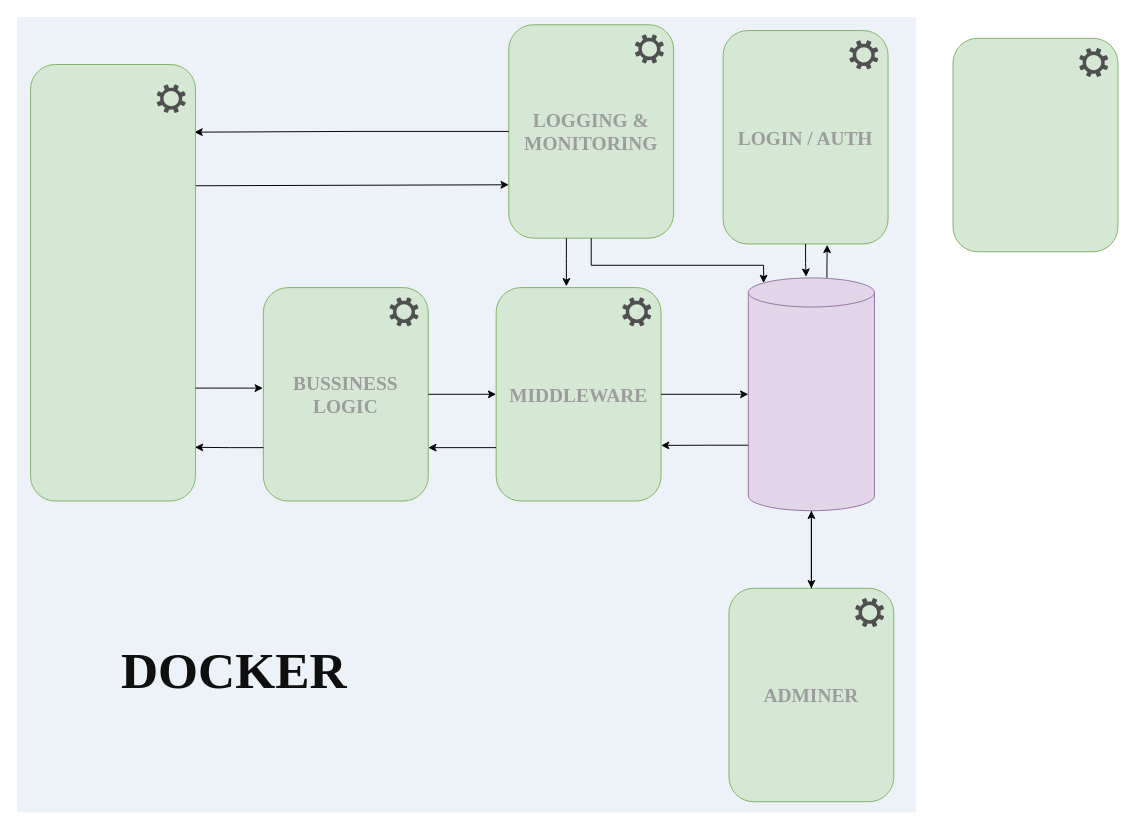
Some shapes in this 1135 by 828 pixel diagram are drawn without their labels. Here are the shapes that lost their labels. From the top down, the box of each, then its label:
(952, 37, 1118, 252): GITHUB CI/CD CODE SOURCING
(30, 64, 195, 501): KONG GATEWAY
(747, 277, 874, 511): DATABASE
